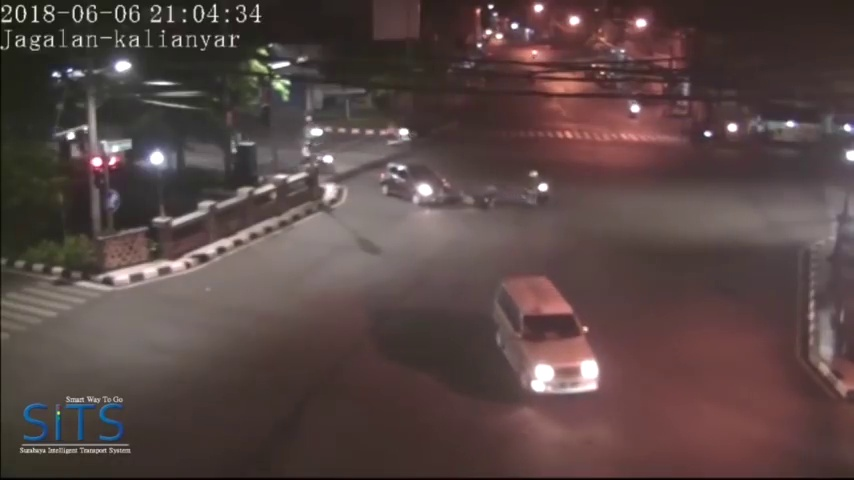car: (497, 273, 603, 396), (382, 159, 451, 210)
motorbike: (524, 168, 550, 209)
